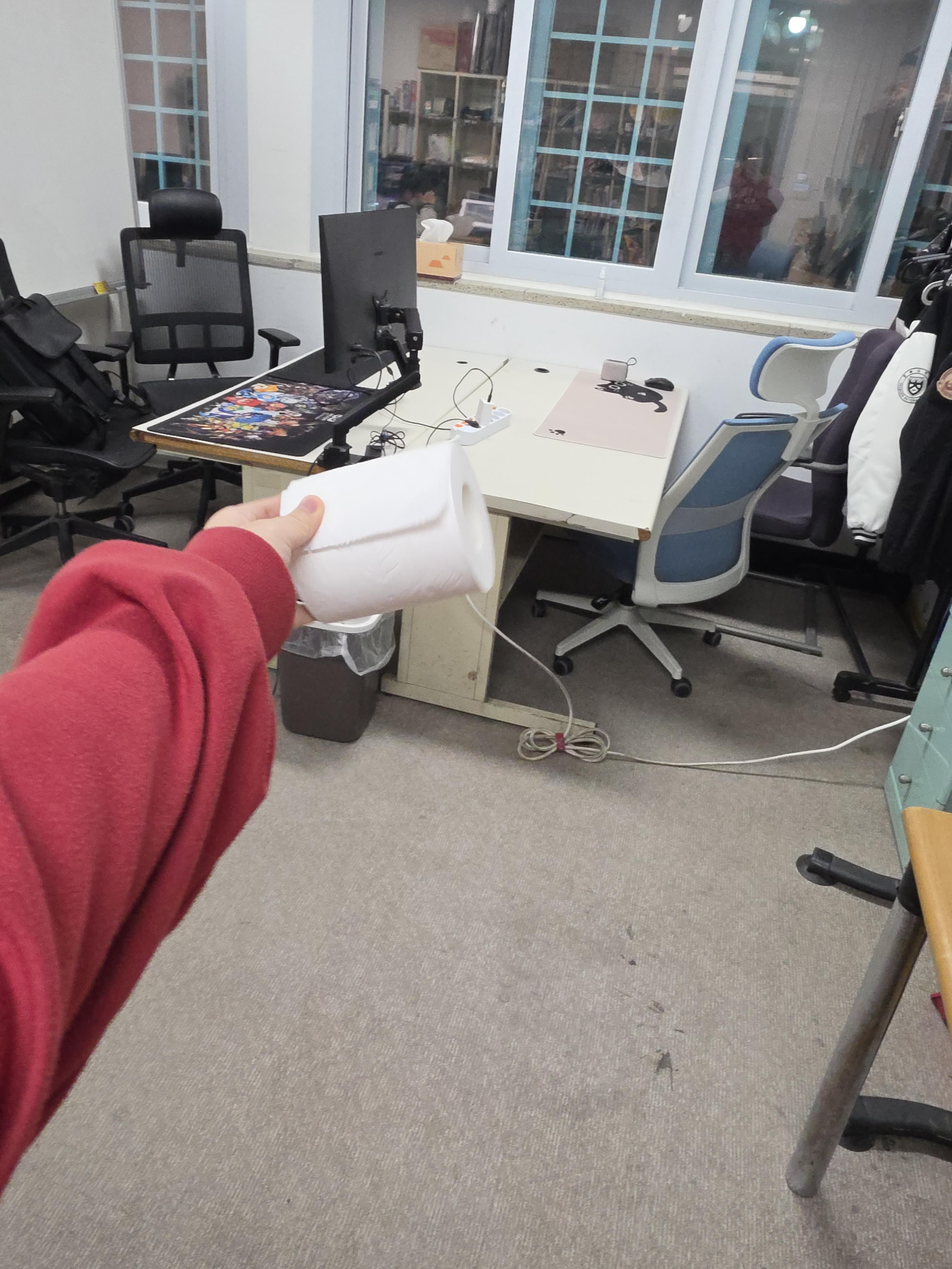tissue: (280, 439, 496, 624), (416, 218, 465, 282)
